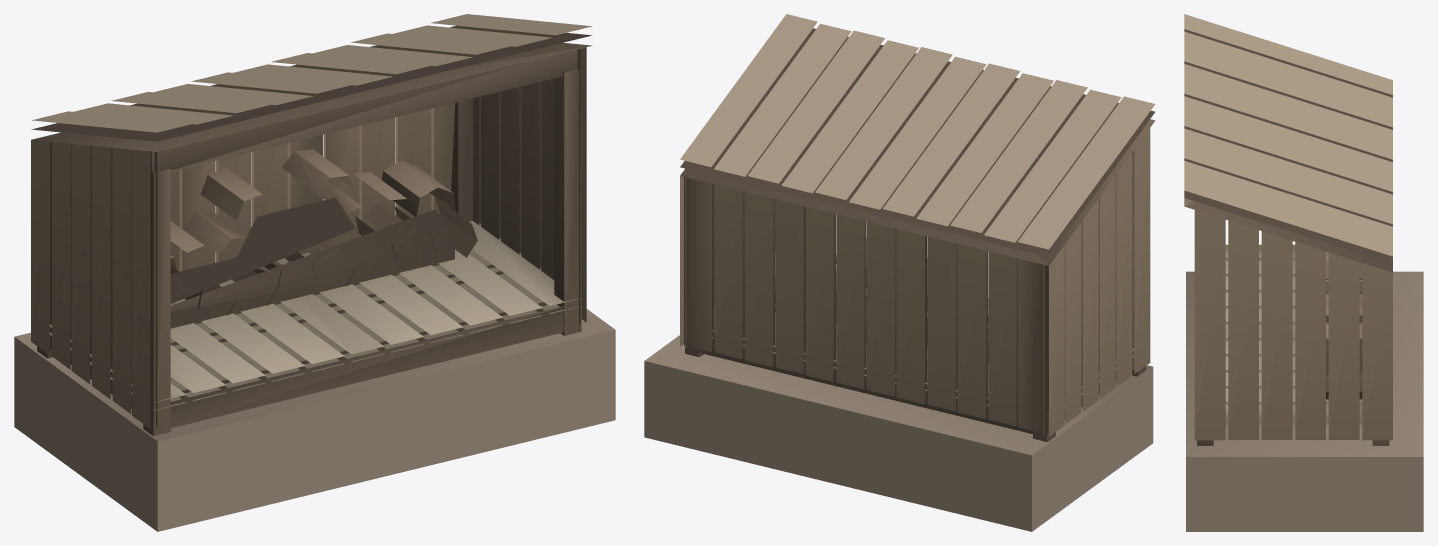
File: woodshed.lod.glb
3 renders of one model, left to right at view 1: azimuth 30°, elevation 25°; view 2: azimuth 150°, elevation 25°; view 3: azimuth 270°, elevation 25°, orthographic. The views are drawn at different scales.
Parts seen in each view (by area): view 1: woodshed; view 2: woodshed; view 3: woodshed.
Boxes of the visible parts, x1=… form: woodshed: x1=14, y1=14, x2=615, y2=531; woodshed: x1=644, y1=14, x2=1155, y2=531; woodshed: x1=1184, y1=14, x2=1423, y2=531.
Size of the model in its own units: 5.48 by 4.56 by 2.98.
